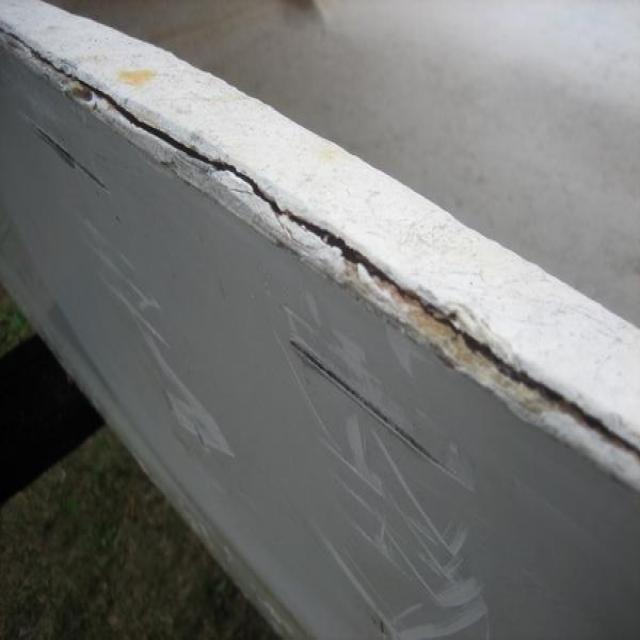Rupture: (6, 24, 638, 464), (287, 333, 469, 490), (25, 113, 117, 199)
